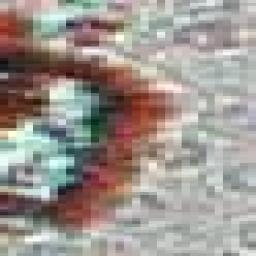crystals: (0, 50, 156, 226)
